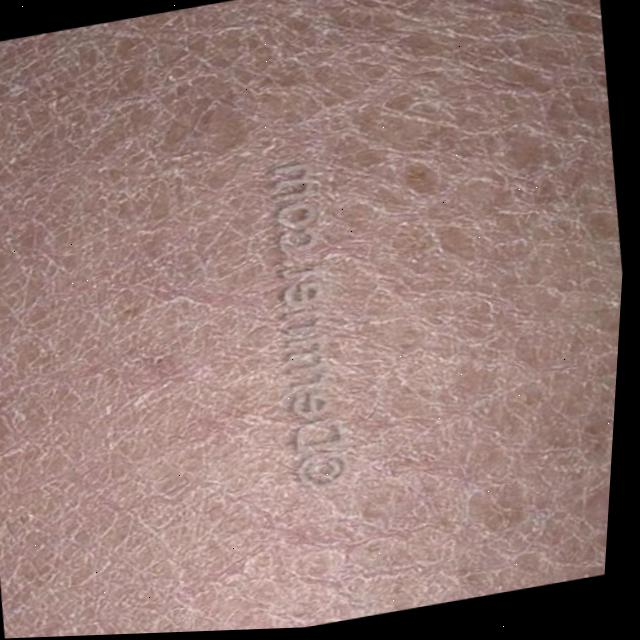Eczema: (0, 48, 618, 640)
